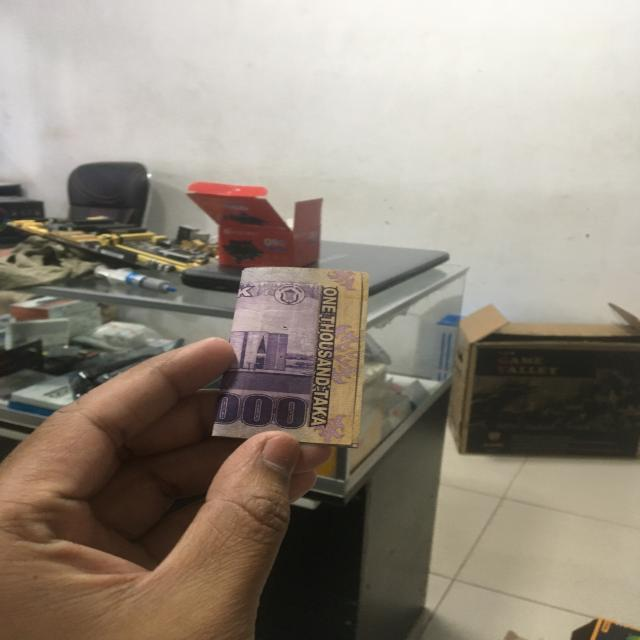Taka: (228, 260, 354, 447)
